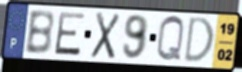9: (120, 13, 151, 61)
B: (23, 8, 56, 56)
D: (182, 16, 216, 65)
E: (53, 11, 87, 58)
Q: (155, 14, 186, 64)
X: (89, 11, 122, 61)
